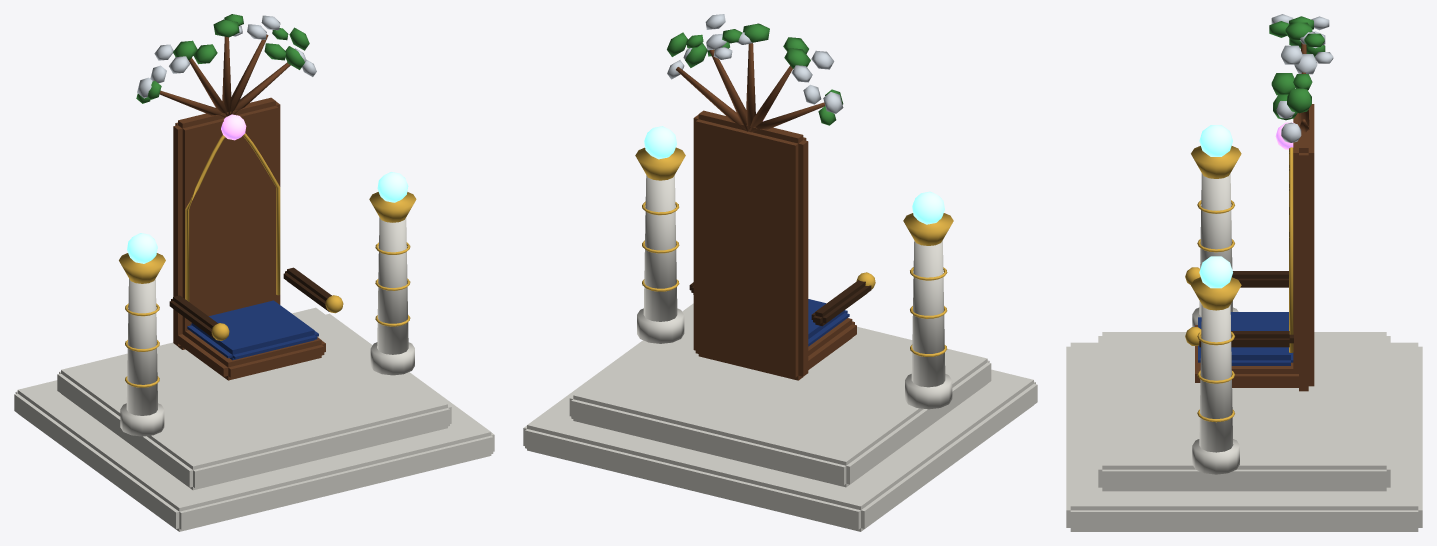
The model's file is elven-throne.glb.
3 renders of one model, left to right at view 1: azimuth 30°, elevation 25°; view 2: azimuth 150°, elevation 25°; view 3: azimuth 270°, elevation 25°, orthographic. The views are drawn at different scales.
Parts seen in each view (by area): view 1: Model Mesh; view 2: Model Mesh; view 3: Model Mesh.
Boxes of the visible parts, x1,y1,x2,y2 form: Model Mesh: (14,14,494,531); Model Mesh: (523,14,1037,531); Model Mesh: (1066,14,1422,531).
Size of the model in its own units: 2.8 by 3.33 by 2.52.
